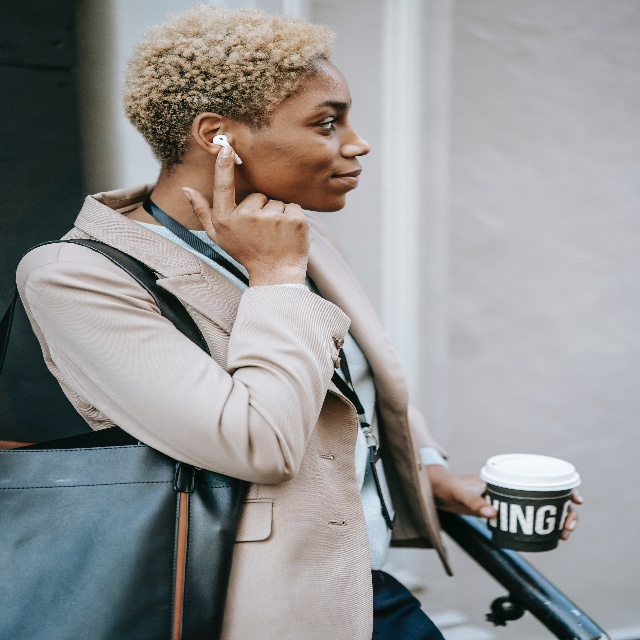Sin_guantes: (180, 144, 311, 273), (447, 474, 584, 541)
